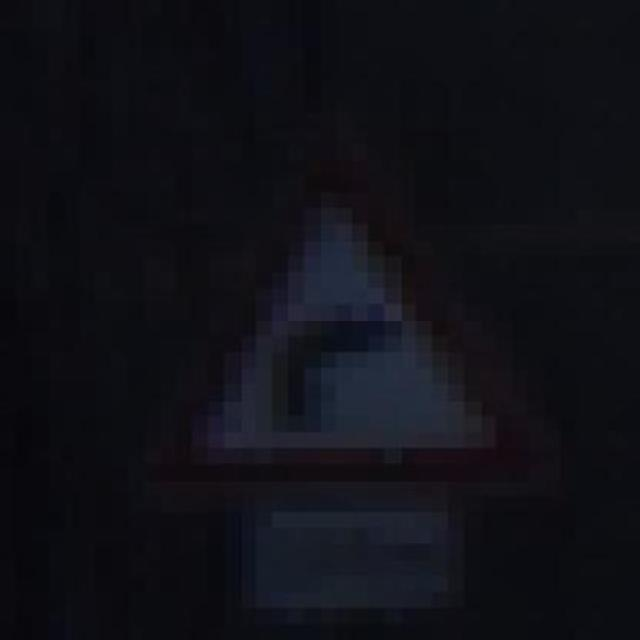Dangerous Rright Curve Ahead: (96, 112, 544, 512)
